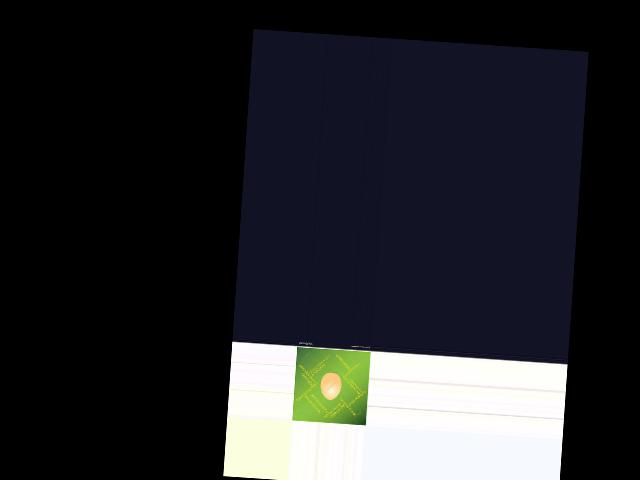egg: (320, 372, 342, 400)
